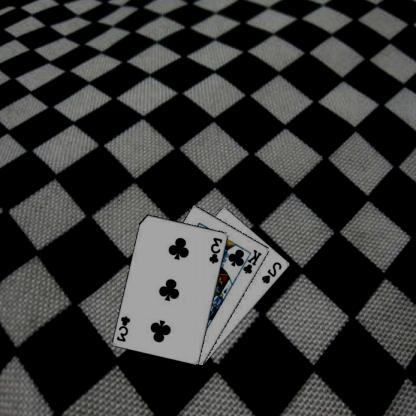2S: (261, 260, 285, 284)
3C: (116, 313, 133, 343), (209, 235, 226, 264)
KC: (238, 247, 265, 274)
